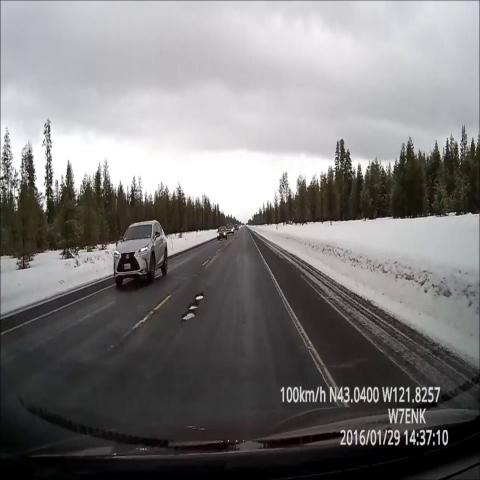pothole: (177, 284, 209, 327)
